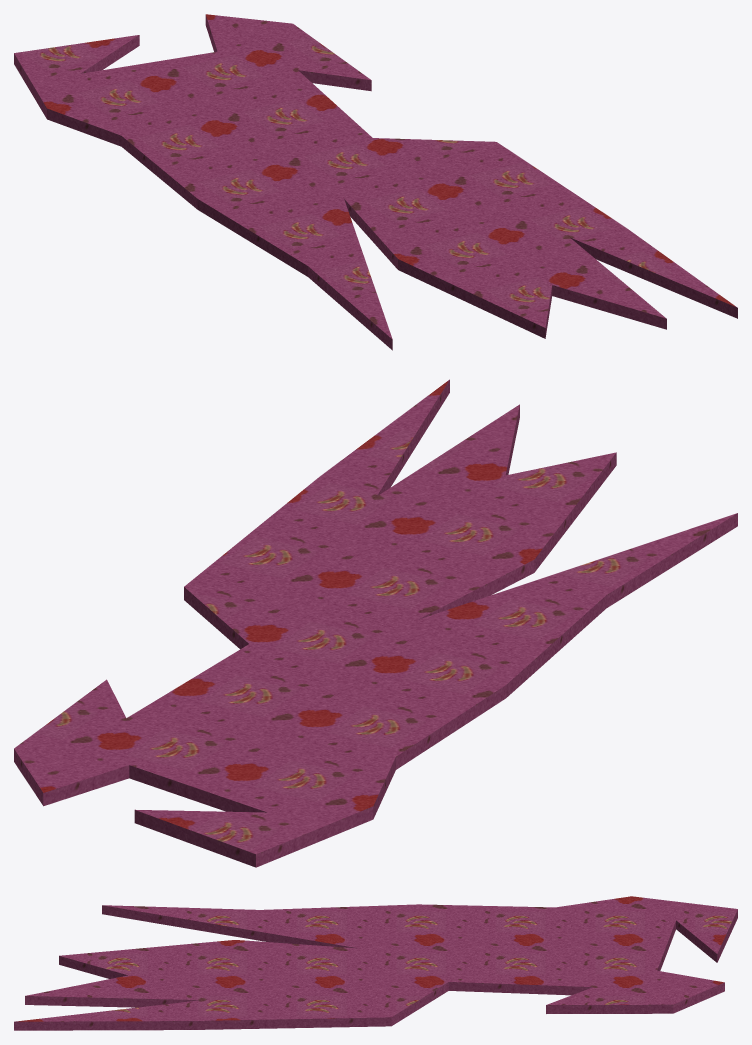
The model's file is Breaking Floor.obj.
3 views of the same model, one above another, from view 1: azimuth 30°, elevation 25°; view 2: azimuth 150°, elevation 25°; view 3: azimuth 270°, elevation 25° (orthographic). The views are drawn at different scales.
Parts seen in each view (by area): view 1: Breaking Floor; view 2: Breaking Floor; view 3: Breaking Floor.
Boxes of the visible parts, x1=… form: Breaking Floor: x1=14, y1=14, x2=737, y2=350; Breaking Floor: x1=14, y1=379, x2=737, y2=867; Breaking Floor: x1=14, y1=896, x2=737, y2=1030.
Bounding box in the file's own units: 2.98 × 0.1001 × 7.28.
